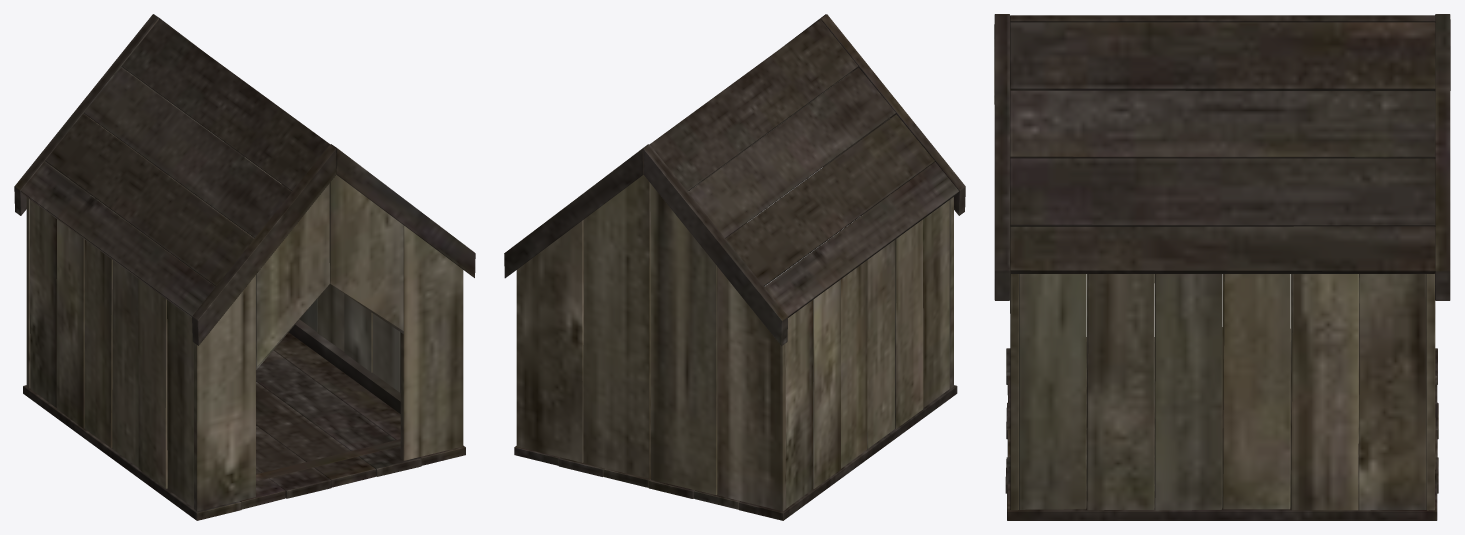
Rendered from doghouse.glb.
3 renders of one model, left to right at view 1: azimuth 30°, elevation 25°; view 2: azimuth 150°, elevation 25°; view 3: azimuth 270°, elevation 25°, orthographic. The views are drawn at different scales.
Parts seen in each view (by area): view 1: doghouse; view 2: doghouse; view 3: doghouse.
Part boxes in pixels (<box>): doghouse: <box>14,14,475,520</box>; doghouse: <box>504,14,965,520</box>; doghouse: <box>994,14,1450,520</box>.
Bounding box in the file's own units: 0.763 × 0.9 × 0.875.
Materials: 1 (1 with a texture image).
